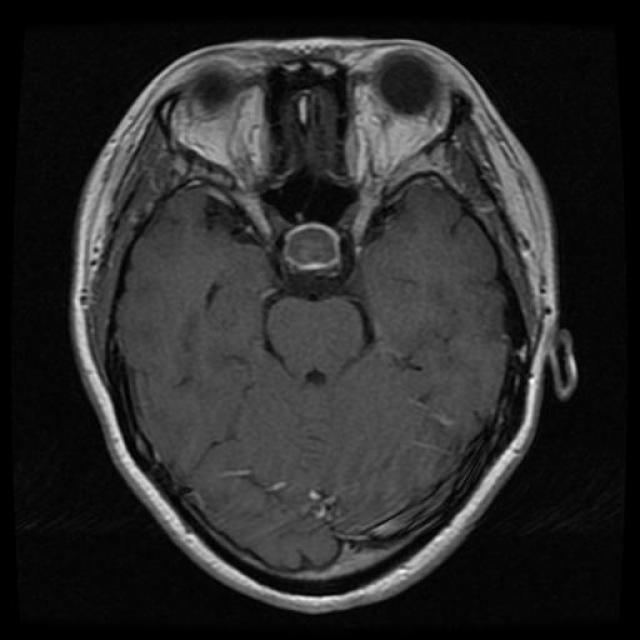pituitary: (258, 197, 364, 333)
